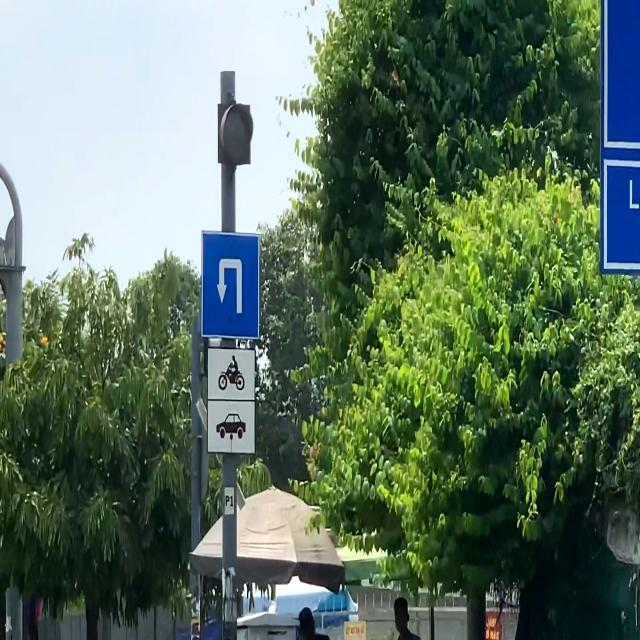Cho quay xe: (201, 228, 260, 339)
